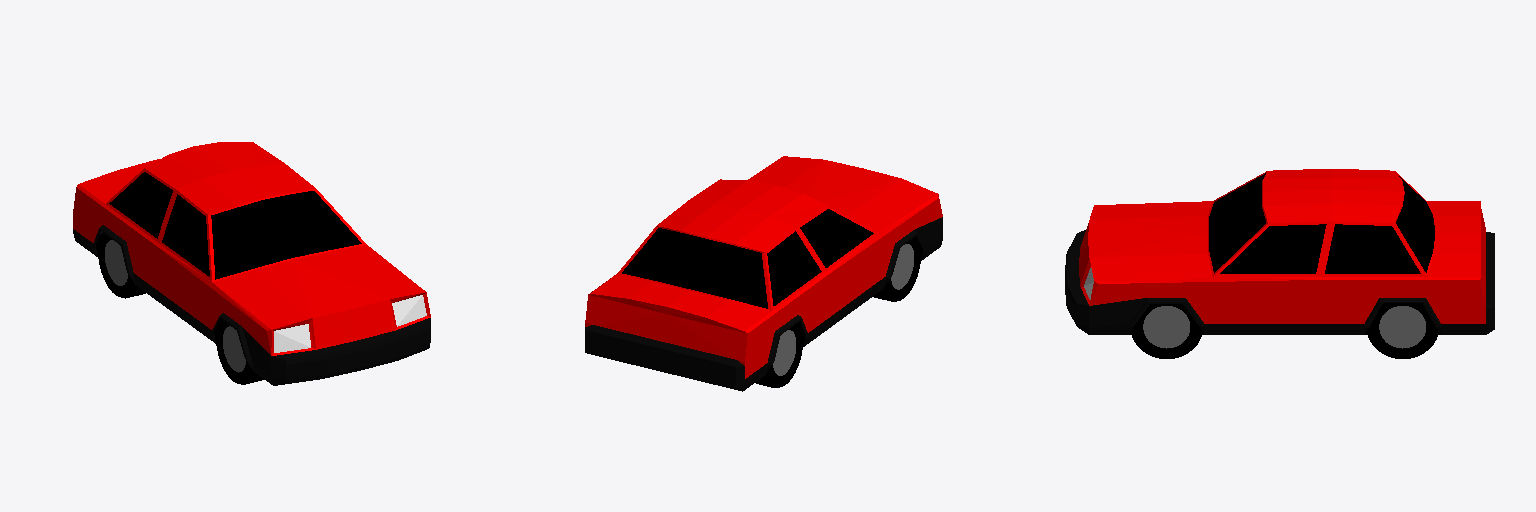
Rendered from Car.obj.
3 renders of one model, left to right at view 1: azimuth 30°, elevation 25°; view 2: azimuth 150°, elevation 25°; view 3: azimuth 270°, elevation 25°, orthographic.
Visible parts, largest first — view 1: Car_CarMesh; view 2: Car_CarMesh; view 3: Car_CarMesh.
Part boxes in pixels (x1,y1,x2,y2): Car_CarMesh: (73,142,430,385); Car_CarMesh: (585,156,942,391); Car_CarMesh: (1065,169,1494,358).
Size of the model in its own units: 2.1 by 1.59 by 4.67.